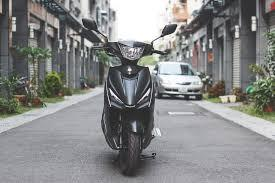car: (150, 61, 204, 99)
motorcycle: (79, 16, 178, 173)
